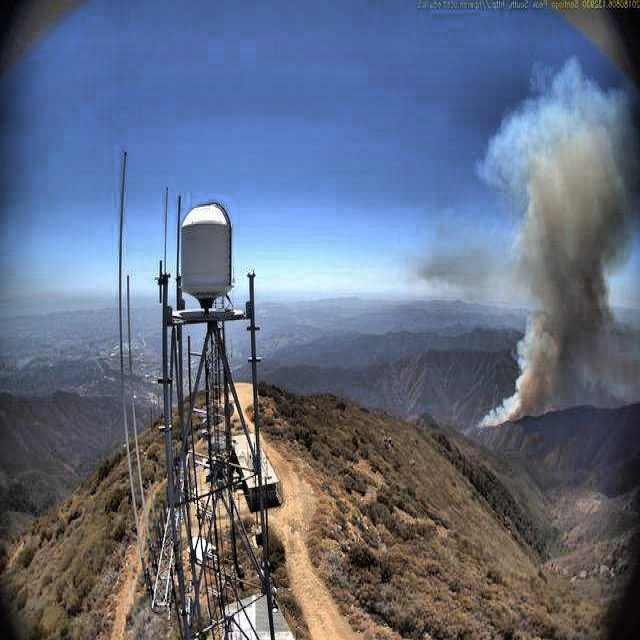smoke: (474, 58, 638, 430)
